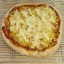pizza: (4, 2, 60, 56)
